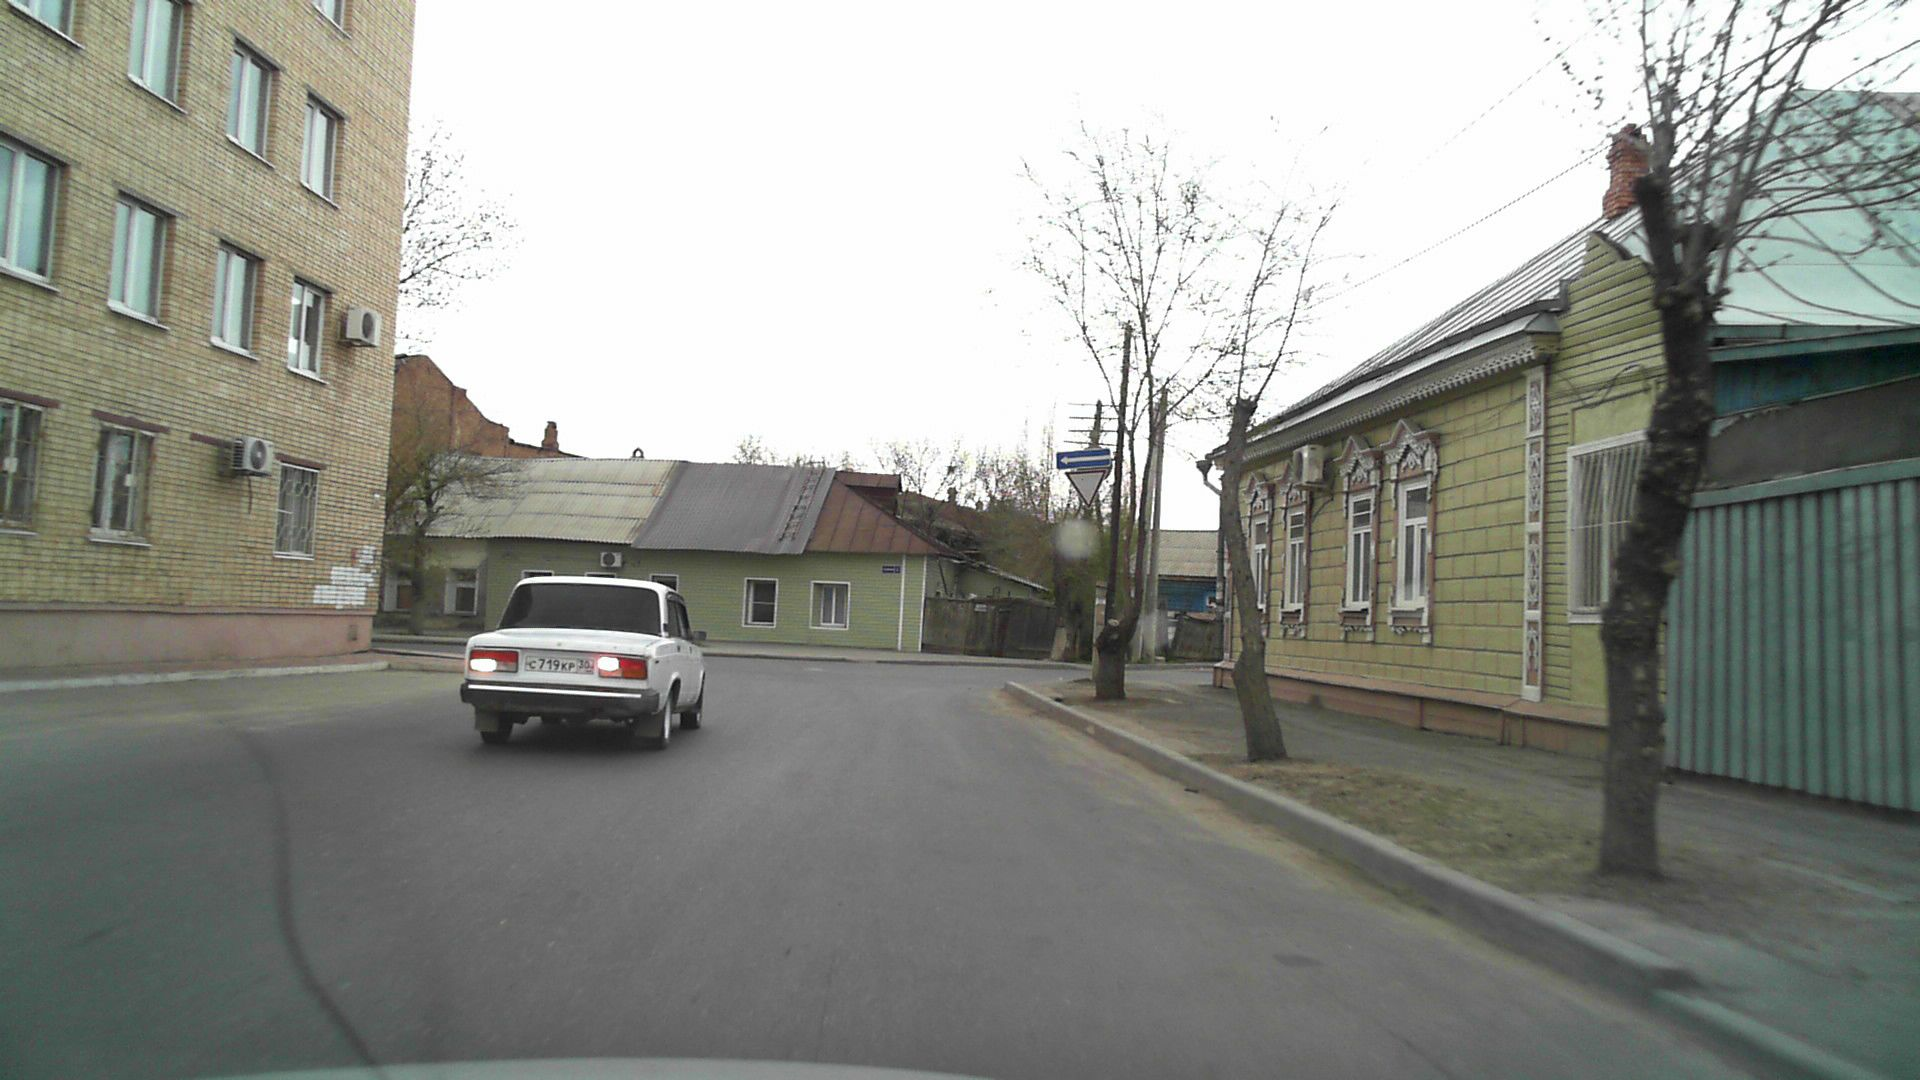One-Way Traffic: (1058, 448, 1110, 469)
